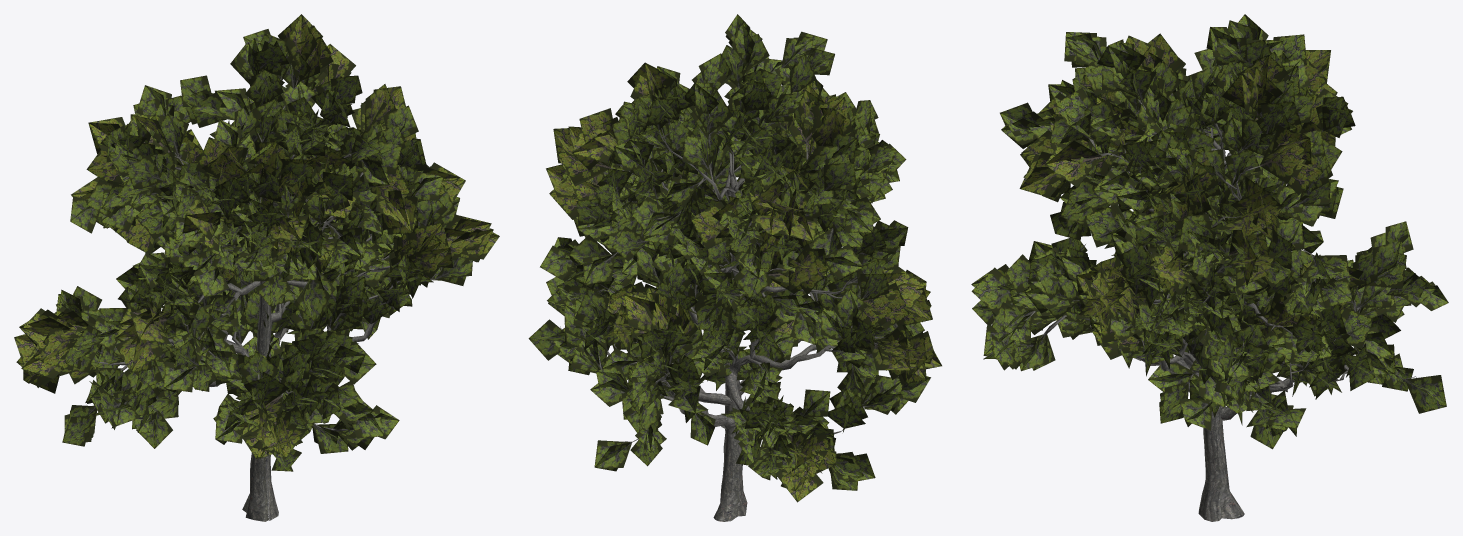
Rendered from big_tree.fbx.
The picture shows the model from 3 angles, left to right: view 1: azimuth 30°, elevation 25°; view 2: azimuth 150°, elevation 25°; view 3: azimuth 270°, elevation 25°; orthographic projection. The views are drawn at different scales.
Parts seen in each view (by area): view 1: big_tree; view 2: big_tree; view 3: big_tree.
Part boxes in pixels (x1,y1,x2,y2): big_tree: (14,14,499,521); big_tree: (528,14,941,521); big_tree: (971,14,1448,521).
Size of the model in its own units: 1106 by 1199 by 1050.
